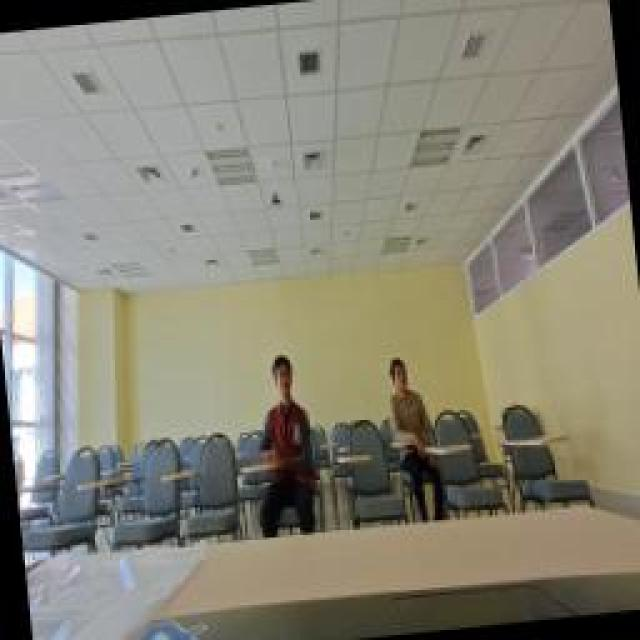study: (250, 350, 312, 465), (383, 350, 435, 448)
